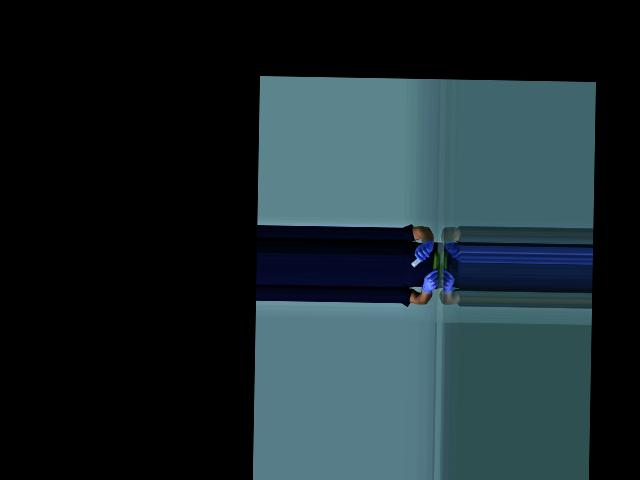cucumber: (432, 250, 440, 278)
